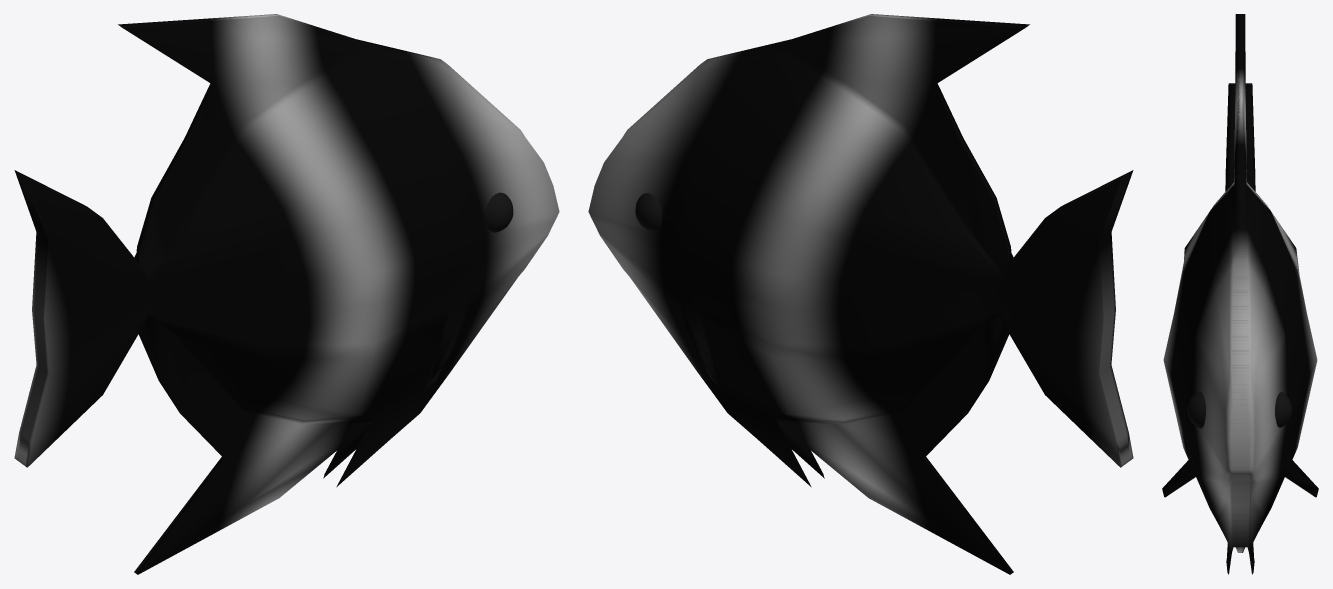
The model's file is Fish_B&W_001.fbx.
3 renders of one model, left to right at view 1: azimuth 30°, elevation 25°; view 2: azimuth 150°, elevation 25°; view 3: azimuth 270°, elevation 25°, orthographic. The views are drawn at different scales.
Parts seen in each view (by area): view 1: Fish1_Body1; view 2: Fish1_Body1; view 3: Fish1_Body1.
Boxes of the visible parts, x1,y1,x2,y2 form: Fish1_Body1: (14,14,559,574); Fish1_Body1: (588,14,1133,574); Fish1_Body1: (1162,14,1318,574).
Size of the model in its own units: 90.67 by 89.88 by 25.21.
2 materials, 1 textured.
